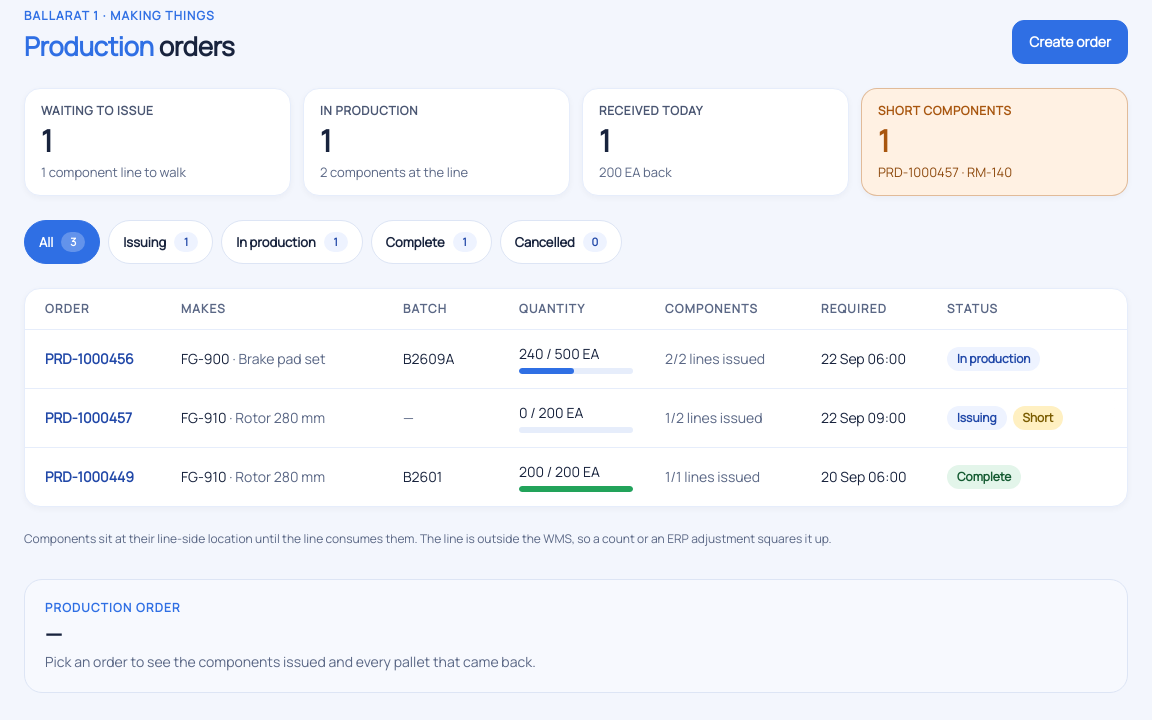
Test: Production › opens an order and shows the pallets that came back
Click the text "PRD-1000456".
click(89, 358)  # box [45,349,134,368]
(page scrolled)
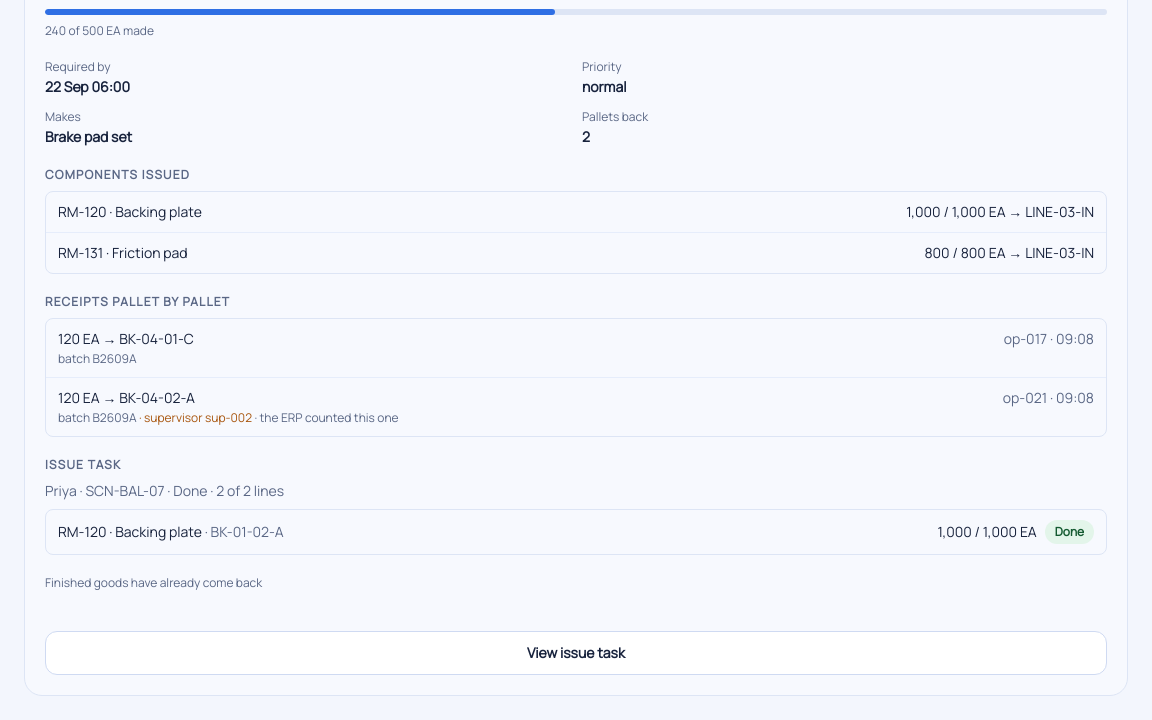
Result: the text "240 of 500 EA made" is shown at [45,22,154,39]
Result: the text "1,000 / 1,000 EA → LINE-03-IN" is shown at [906,202,1094,222]
Result: the text "120 EA → BK-04-01-C" is shown at [58,329,194,349]
